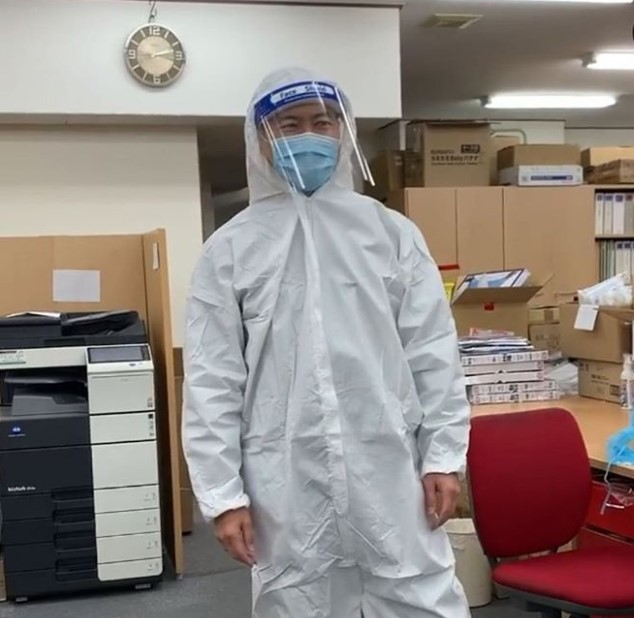face_with_mask: (255, 78, 346, 193)
